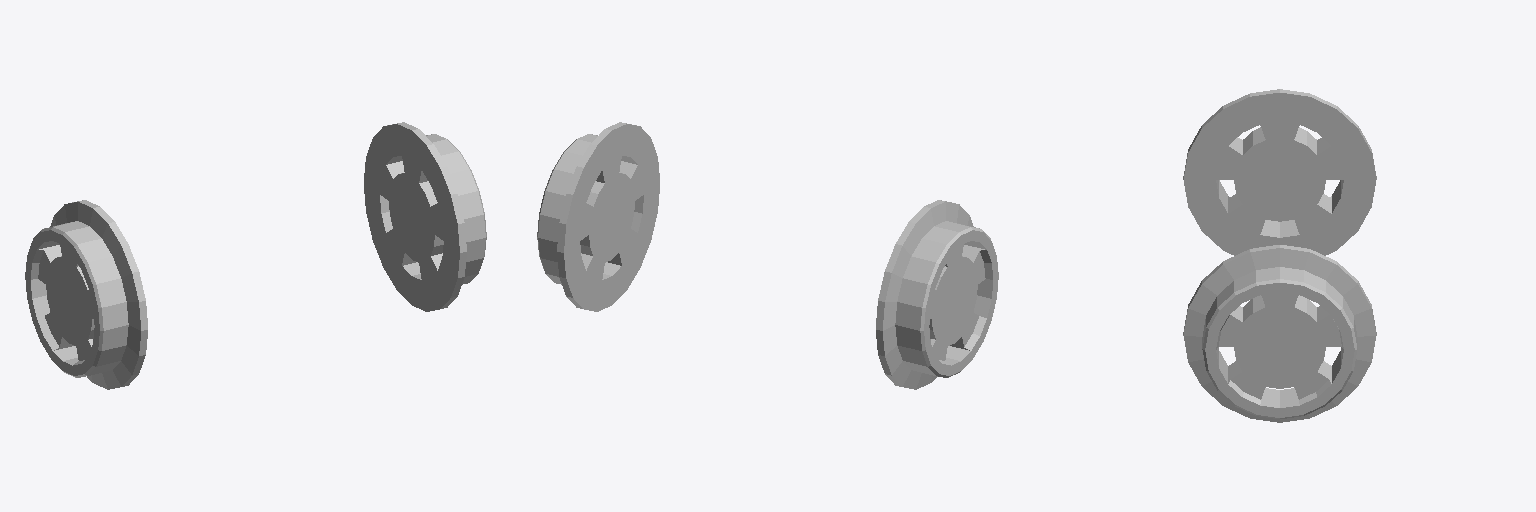
File: wheelBack.obj
The picture shows the model from 3 angles: view 1: azimuth 30°, elevation 25°; view 2: azimuth 150°, elevation 25°; view 3: azimuth 270°, elevation 25°; orthographic projection.
Parts seen in each view (by area): view 1: MineCart_Wheel.001_MineCart_Mat.001; view 2: MineCart_Wheel.001_MineCart_Mat.001; view 3: MineCart_Wheel.001_MineCart_Mat.001.
Part boxes in pixels (x1,y1,x2,y2): MineCart_Wheel.001_MineCart_Mat.001: (25,122,486,389); MineCart_Wheel.001_MineCart_Mat.001: (537,122,998,389); MineCart_Wheel.001_MineCart_Mat.001: (1183,89,1376,422).
Size of the model in its own units: 0.0724 by 0.0313 by 0.0313.